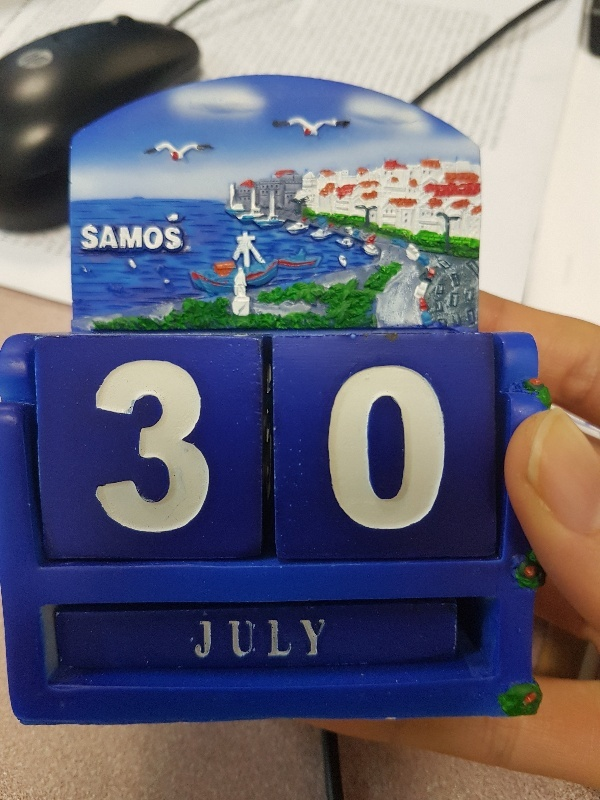text: (97, 358, 112, 536), (113, 358, 128, 536), (129, 358, 144, 536), (145, 358, 160, 536), (161, 358, 176, 536), (177, 358, 192, 536), (193, 358, 208, 536), (337, 360, 352, 534), (353, 360, 368, 534), (369, 360, 384, 534), (385, 360, 400, 534), (401, 360, 416, 534), (417, 360, 432, 534), (433, 360, 448, 534), (324, 360, 336, 534), (209, 358, 214, 536), (209, 617, 224, 660), (225, 617, 240, 660), (241, 617, 256, 660), (257, 617, 272, 660), (273, 617, 288, 660), (289, 617, 304, 660), (305, 617, 320, 660), (196, 617, 208, 660), (81, 225, 96, 250), (97, 225, 112, 250), (113, 225, 128, 250), (129, 225, 144, 250), (145, 225, 160, 250), (161, 225, 176, 250), (17, 48, 32, 73), (33, 48, 48, 73), (94, 358, 96, 536), (321, 617, 327, 660), (177, 225, 184, 250), (49, 48, 51, 73)
